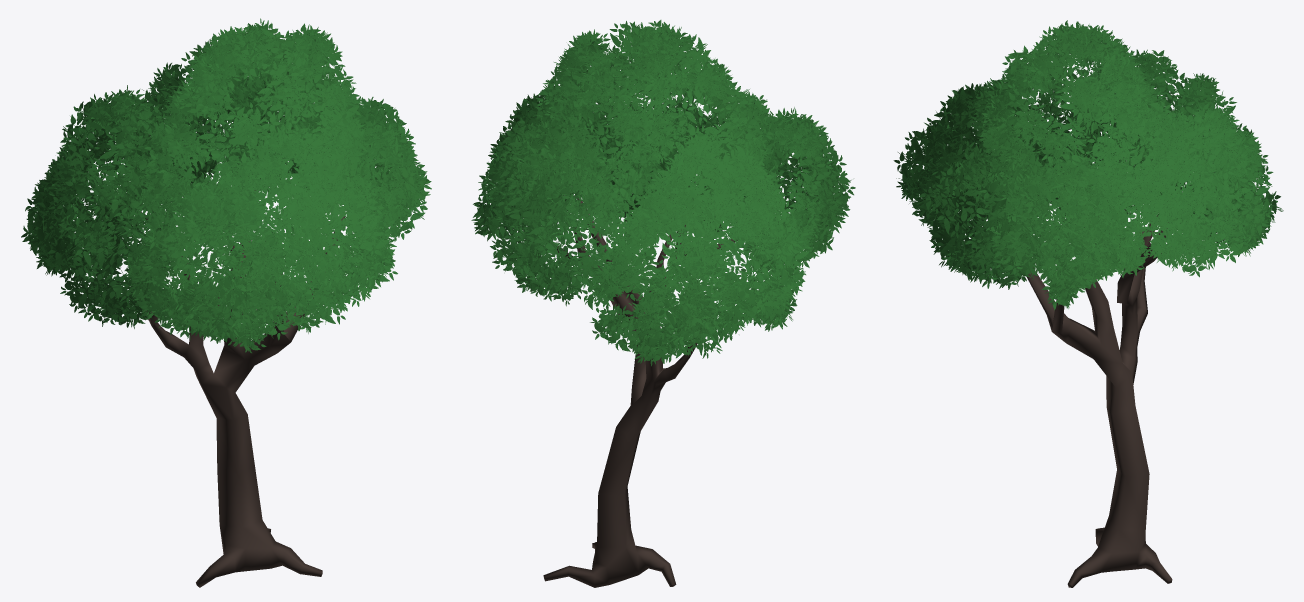
Rendered from Tree2.fbx.
3 views of the same model, side by side, from view 1: azimuth 30°, elevation 25°; view 2: azimuth 150°, elevation 25°; view 3: azimuth 270°, elevation 25° (orthographic). The views are drawn at different scales.
Visible parts, largest first — view 1: Leaves; view 2: Leaves; view 3: Leaves.
Part boxes in pixels (bbox=[...]): Leaves: bbox=[21, 18, 431, 587]; Leaves: bbox=[471, 20, 855, 587]; Leaves: bbox=[893, 20, 1283, 587].
Size of the model in its own units: 456 by 711 by 483.
Materials: 2 (1 with a texture image).
